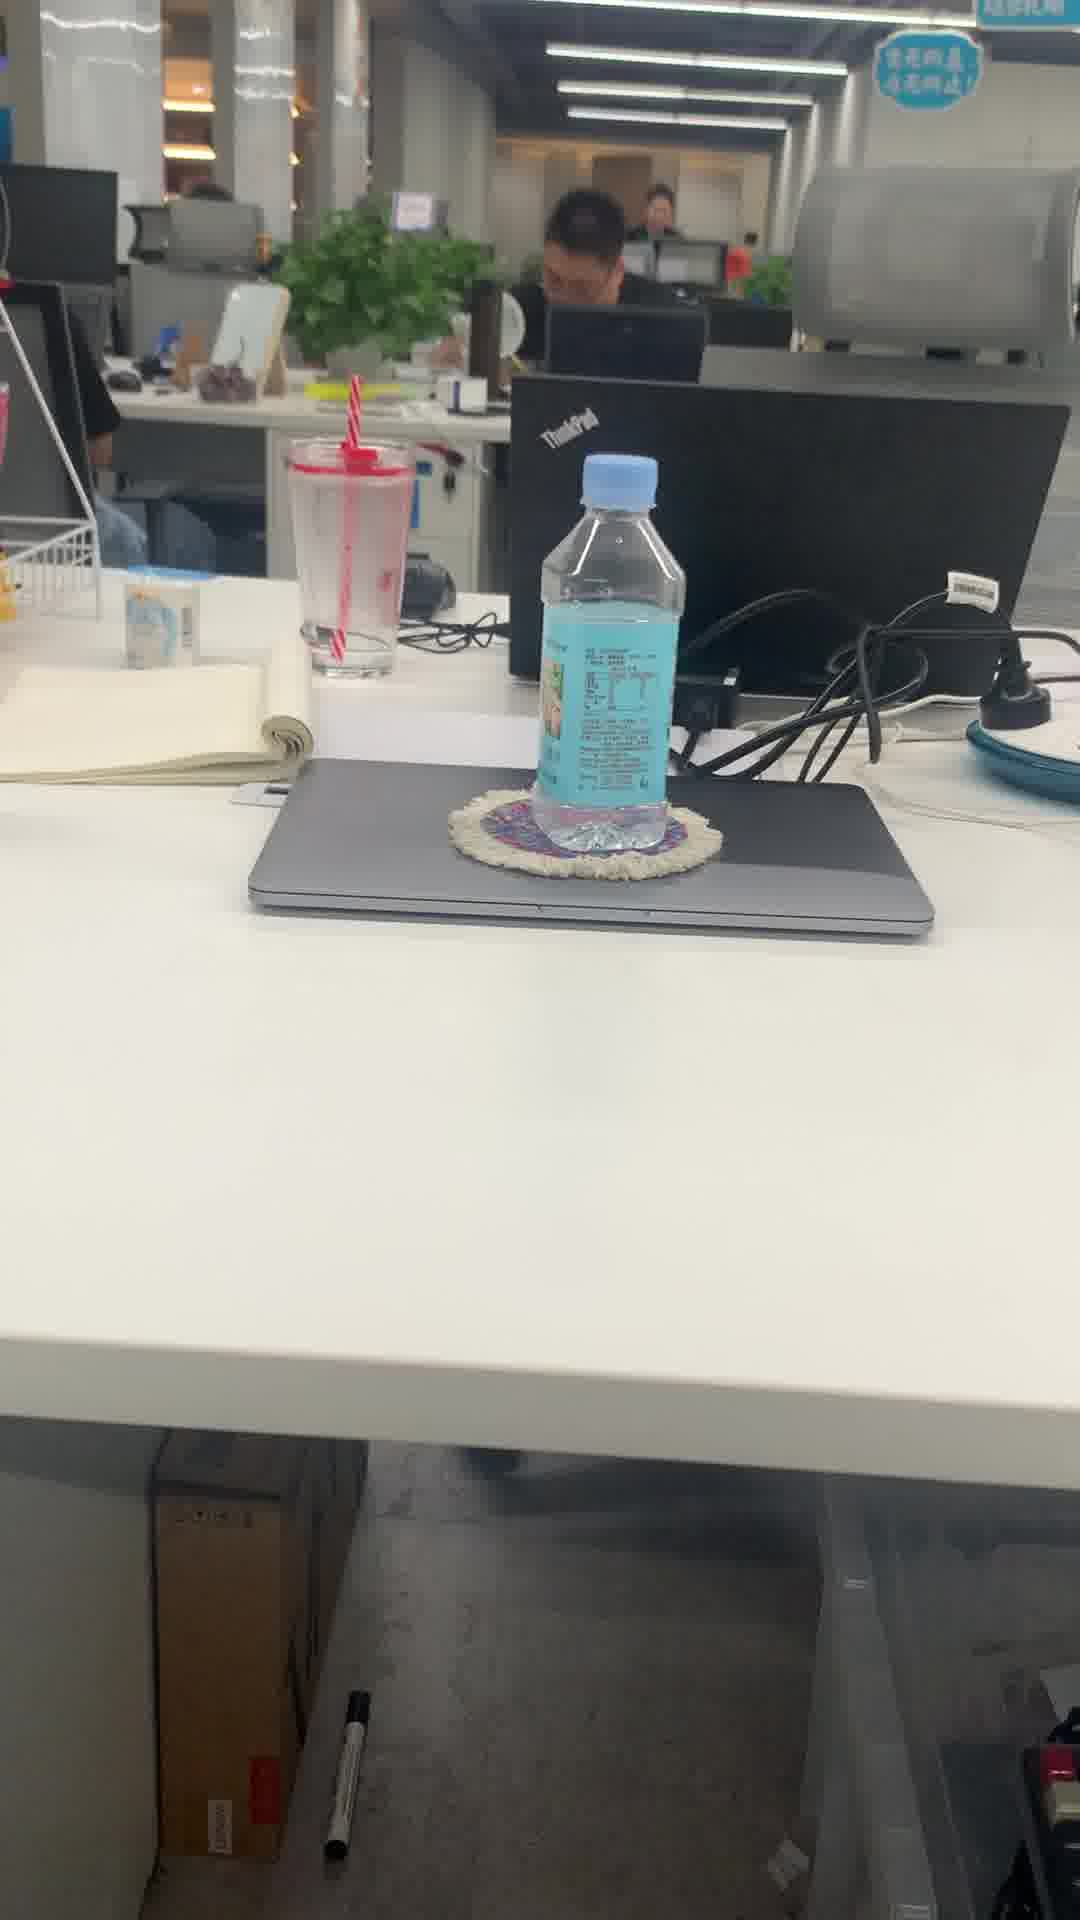水瓶: (533, 439, 692, 862)
